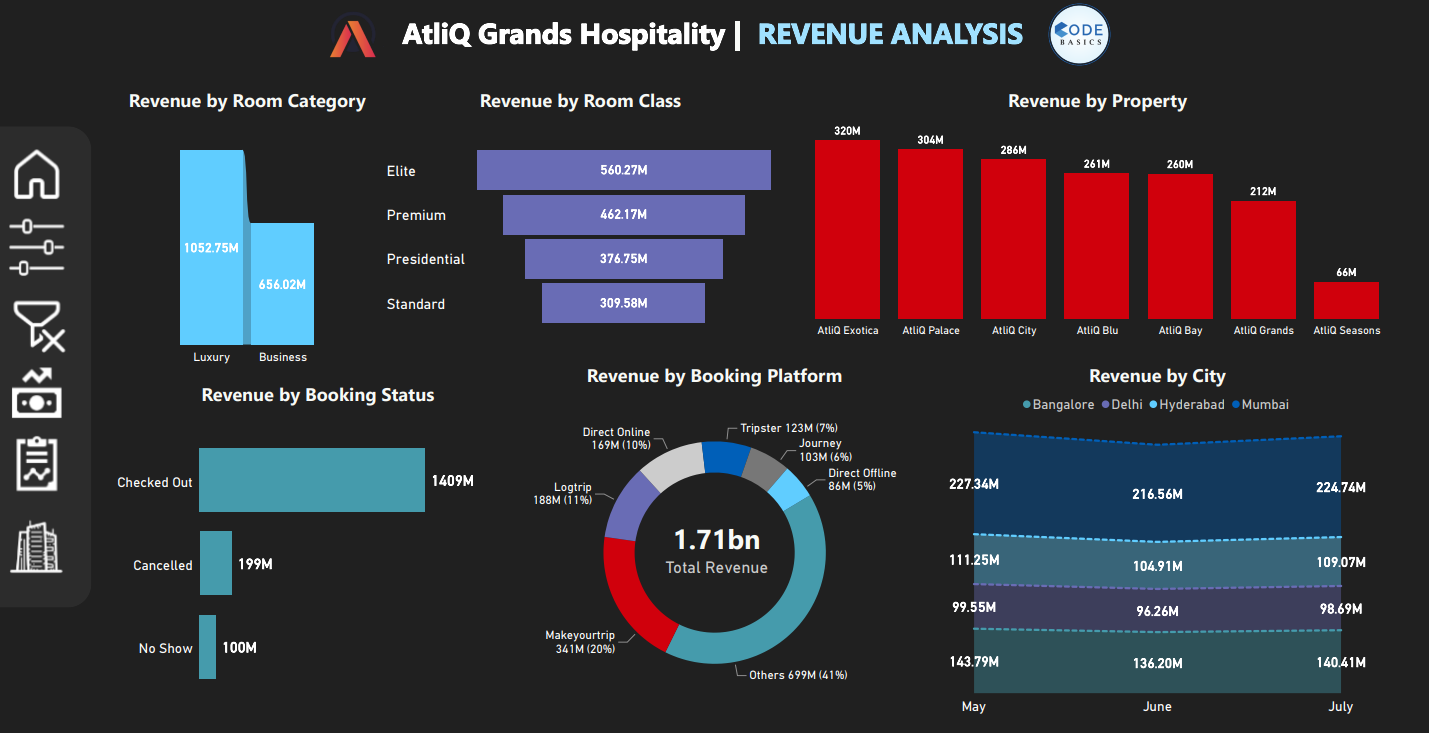

The page's visual inventory and layout, read from the dashboard file:
{"tool":"powerbi","page":{"name":"Revenue Analysis","canvas":[1890,970],"ordinal":1},"visuals":[{"type":"group","id":"g1","title":"RA Heading","box":[416,0,1060.4,96],"z":0},{"type":"image","title":"AtliQ Logo","box":[416,0,98.2,96],"z":0,"group":"g1"},{"type":"image","title":"Codebasics Logo","box":[1378.2,0,98.2,96],"z":1000,"group":"g1"},{"type":"columnChart","title":"Revenue by Room Category","fields":{"Category":["dim_hotels.category"],"Y":["Metrics.Revenue"]},"box":[150,117.9,357.9,370.7],"z":1000},{"type":"shape","title":"Side Panel RC","box":[0,169.1,123.4,635.4],"z":1000,"group":"g2"},{"type":"textbox","title":"AGH RA Heading","box":[507.6,15.3,870.5,65.5],"z":2000,"group":"g1"},{"type":"actionButton","title":"Home","box":[0,189.7,100.6,86.9],"z":2000,"group":"g2"},{"type":"barChart","title":"Revenue by Booking Status","fields":{"Category":["fact_bookings.booking_status"],"Y":["Metrics.Revenue"]},"box":[150.9,505.1,541.7,445.7],"z":2000},{"type":"funnel","title":"Revenue by Room Class","fields":{"Category":["dim_rooms.room_class"],"Y":["Metrics.Revenue"]},"box":[507.9,117.9,520.7,362.2],"z":3000},{"type":"actionButton","title":"Filter","box":[0,285.7,100.6,86.9],"z":3000,"group":"g2"},{"type":"clusteredColumnChart","title":"Revenue by Property","fields":{"Category":["dim_hotels.property_name"],"Y":["Metrics.Revenue"]},"box":[1028.6,117.9,844.8,334.6],"z":4000},{"type":"actionButton","title":"Clear Filter","box":[0,386.2,100.6,86.9],"z":5000,"group":"g2"},{"type":"donutChart","title":"Revenue by Booking Platform","fields":{"Category":["fact_bookings.booking_platform"],"Y":["Metrics.Revenue"]},"box":[692.6,480,505.1,470.9],"z":5000},{"type":"actionButton","title":"RA","box":[0,477.7,100.6,86.9],"z":6000,"group":"g2"},{"type":"stackedAreaChart","title":"Revenue by City","fields":{"Category":["dim_date.date.Variation.Date Hierarchy.Month"],"Y":["Metrics.Revenue"],"Series":["dim_hotels.city"]},"box":[1186.3,480,688,470.9],"z":6000},{"type":"actionButton","title":"BA","box":[0,571.4,100.6,86.9],"z":7000,"group":"g2"},{"type":"card","title":"Total Revenue Card","fields":{"Values":["Metrics.Revenue"]},"box":[868.7,658,159.2,133.5],"z":7000},{"type":"group","id":"g2","title":"Side Panel","box":[0,169.1,125.1,636.7],"z":8000},{"type":"actionButton","title":"PA","box":[0,681.1,100.6,86.9],"z":8000,"group":"g2"}]}

Visuals, with their boxes in screenshot pixels (x1, y1, x2, y2), scaled from the page's 1890x970 canvas onto the 1429x733 screenshot:
"RA Heading" group: locate(315, 0, 1116, 73)
"AtliQ Logo" image: locate(315, 0, 389, 73)
"Codebasics Logo" image: locate(1042, 0, 1116, 73)
"Revenue by Room Category" columnChart: locate(113, 89, 384, 369)
"Side Panel RC" shape: locate(0, 128, 93, 608)
"AGH RA Heading" textbox: locate(384, 12, 1042, 61)
"Home" actionButton: locate(0, 143, 76, 209)
"Revenue by Booking Status" barChart: locate(114, 382, 524, 718)
"Revenue by Room Class" funnel: locate(384, 89, 778, 363)
"Filter" actionButton: locate(0, 216, 76, 282)
"Revenue by Property" clusteredColumnChart: locate(778, 89, 1416, 342)
"Clear Filter" actionButton: locate(0, 292, 76, 358)
"Revenue by Booking Platform" donutChart: locate(524, 363, 906, 719)
"RA" actionButton: locate(0, 361, 76, 427)
"Revenue by City" stackedAreaChart: locate(897, 363, 1417, 719)
"BA" actionButton: locate(0, 432, 76, 497)
"Total Revenue Card" card: locate(657, 497, 777, 598)
"Side Panel" group: locate(0, 128, 95, 609)
"PA" actionButton: locate(0, 515, 76, 580)
